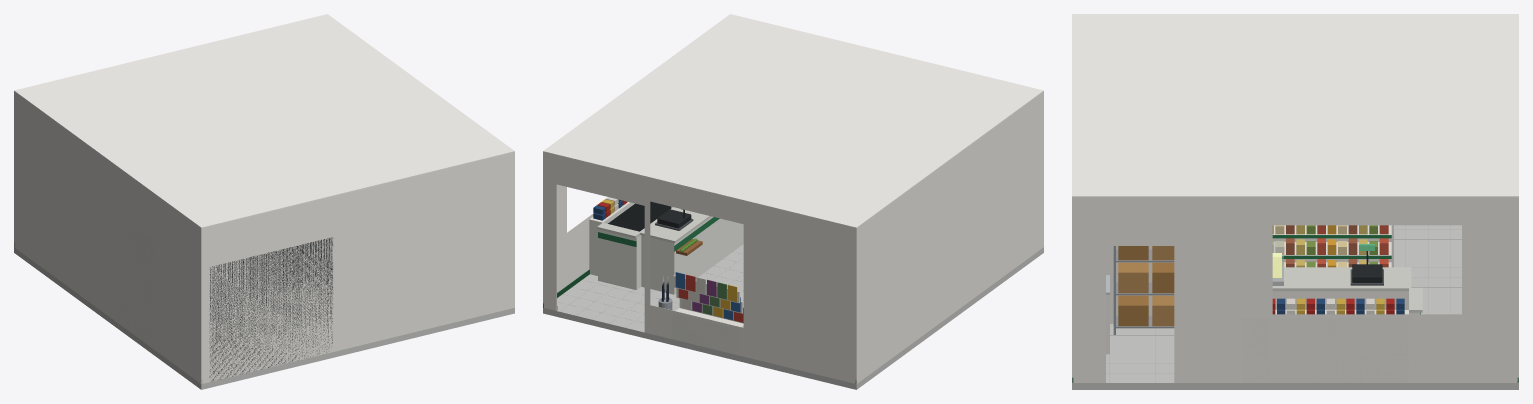
The model's file is kitahama-shop-interior.glb.
The picture shows the model from 3 angles, left to right: view 1: azimuth 30°, elevation 25°; view 2: azimuth 150°, elevation 25°; view 3: azimuth 270°, elevation 25°; orthographic projection. The views are drawn at different scales.
Parts seen in each view (by area): view 1: KitahamaShopInterior / inside paint, KitahamaShopInterior / ceiling, KitahamaShopInterior / dark, KitahamaShopInterior / fitting white, KitahamaShopInterior / vinyl tiles; view 2: KitahamaShopInterior / inside paint, KitahamaShopInterior / ceiling, KitahamaShopInterior / fitting white, KitahamaShopInterior / vinyl tiles, KitahamaShopInterior / dark, KitahamaShopInterior / counter top, KitahamaShopInterior / house green; view 3: KitahamaShopInterior / ceiling, KitahamaShopInterior / inside paint, KitahamaShopInterior / fitting white, KitahamaShopInterior / vinyl tiles, KitahamaShopInterior / counter top, KitahamaShopInterior / cases 1, KitahamaShopInterior / cases 0, KitahamaShopInterior / steel grey, KitahamaShopInterior / house green, KitahamaShopInterior / vinyl tile joint, KitahamaShopInterior / snacks 1, KitahamaShopInterior / snacks 4 (+9 smaller).
Part boxes in pixels (left/top/right/bottom): KitahamaShopInterior / inside paint: left=14, top=92, right=514, bottom=383; KitahamaShopInterior / ceiling: left=14, top=14, right=514, bottom=228; KitahamaShopInterior / dark: left=209, top=237, right=332, bottom=381; KitahamaShopInterior / fitting white: left=79, top=191, right=333, bottom=381; KitahamaShopInterior / vinyl tiles: left=14, top=247, right=514, bottom=389; KitahamaShopInterior / inside paint: left=543, top=92, right=1043, bottom=383; KitahamaShopInterior / ceiling: left=543, top=14, right=1043, bottom=228; KitahamaShopInterior / fitting white: left=589, top=202, right=943, bottom=354; KitahamaShopInterior / vinyl tiles: left=543, top=244, right=1043, bottom=389; KitahamaShopInterior / dark: left=608, top=201, right=691, bottom=231; KitahamaShopInterior / counter top: left=597, top=207, right=711, bottom=243; KitahamaShopInterior / house green: left=598, top=217, right=719, bottom=251; KitahamaShopInterior / ceiling: left=1072, top=14, right=1518, bottom=197; KitahamaShopInterior / inside paint: left=1072, top=197, right=1518, bottom=382; KitahamaShopInterior / fitting white: left=1106, top=225, right=1420, bottom=382; KitahamaShopInterior / vinyl tiles: left=1072, top=225, right=1518, bottom=389; KitahamaShopInterior / counter top: left=1272, top=267, right=1422, bottom=312; KitahamaShopInterior / cases 1: left=1118, top=246, right=1174, bottom=326; KitahamaShopInterior / cases 0: left=1118, top=246, right=1174, bottom=326; KitahamaShopInterior / steel grey: left=1113, top=246, right=1174, bottom=334; KitahamaShopInterior / house green: left=1272, top=235, right=1420, bottom=314; KitahamaShopInterior / vinyl tile joint: left=1106, top=225, right=1461, bottom=382; KitahamaShopInterior / snacks 1: left=1317, top=225, right=1388, bottom=267; KitahamaShopInterior / snacks 4: left=1286, top=225, right=1357, bottom=267.
Size of the model in its own units: 5.7 by 2.82 by 5.9.
